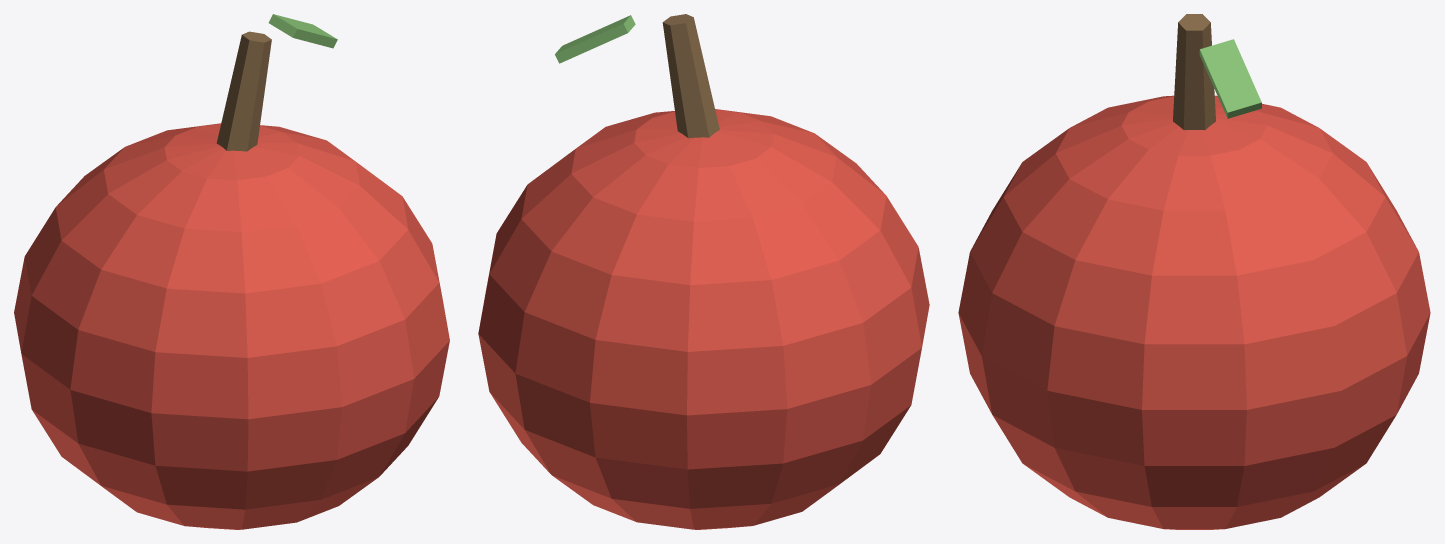
Rendered from apple.glb.
3 views of the same model, side by side, from view 1: azimuth 30°, elevation 25°; view 2: azimuth 150°, elevation 25°; view 3: azimuth 270°, elevation 25° (orthographic). The views are drawn at different scales.
Parts seen in each view (by area): view 1: apple; view 2: apple; view 3: apple.
Boxes of the visible parts, x1,y1,x2,y2 form: apple: [14, 14, 449, 529]; apple: [478, 14, 929, 529]; apple: [958, 14, 1430, 529].
Size of the model in its own units: 0.2535 by 0.3055 by 0.26.
